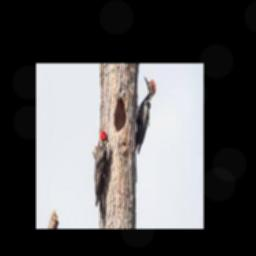Woodpecker: (136, 75, 156, 154), (94, 131, 110, 228)
